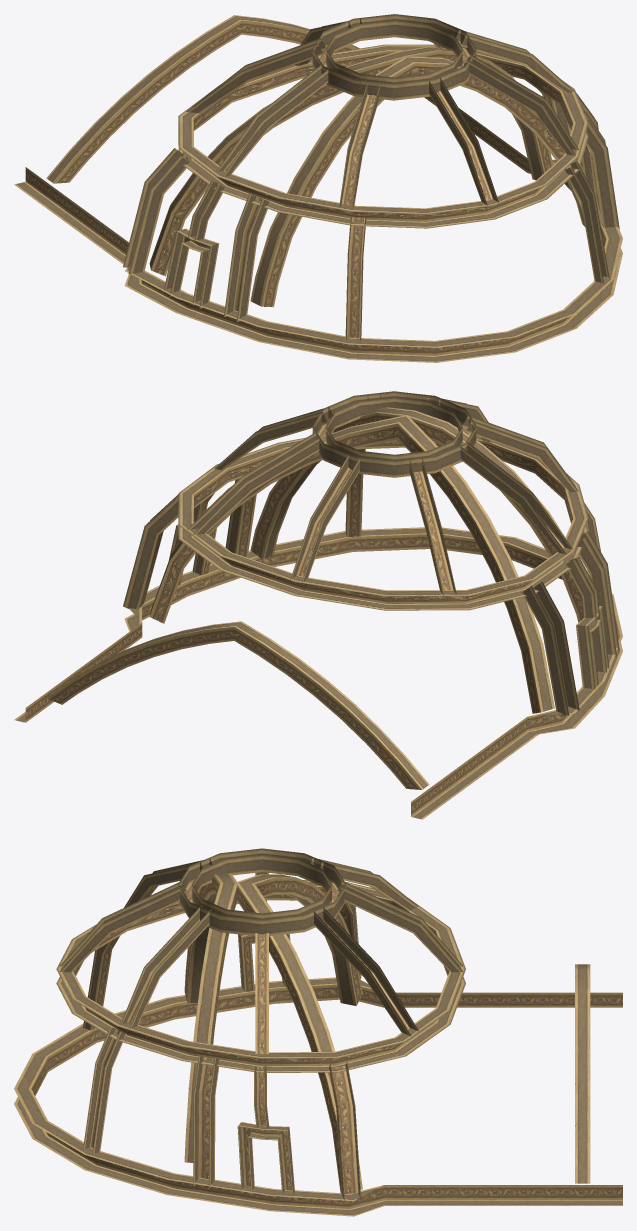
Rendered from RoofBeam01_Maincity_001.FBX.
3 views of the same model, one above another, from view 1: azimuth 30°, elevation 25°; view 2: azimuth 150°, elevation 25°; view 3: azimuth 270°, elevation 25° (orthographic). The views are drawn at different scales.
Parts seen in each view (by area): view 1: RoofBeam01_Maincity_001; view 2: RoofBeam01_Maincity_001; view 3: RoofBeam01_Maincity_001.
Boxes of the visible parts, x1,y1,x2,y2 form: RoofBeam01_Maincity_001: (14,14,622,362); RoofBeam01_Maincity_001: (14,391,622,819); RoofBeam01_Maincity_001: (14,848,622,1216).
Bounding box in the file's own units: 2235 × 1025 × 2551.
Materials: 1 (1 with a texture image).
